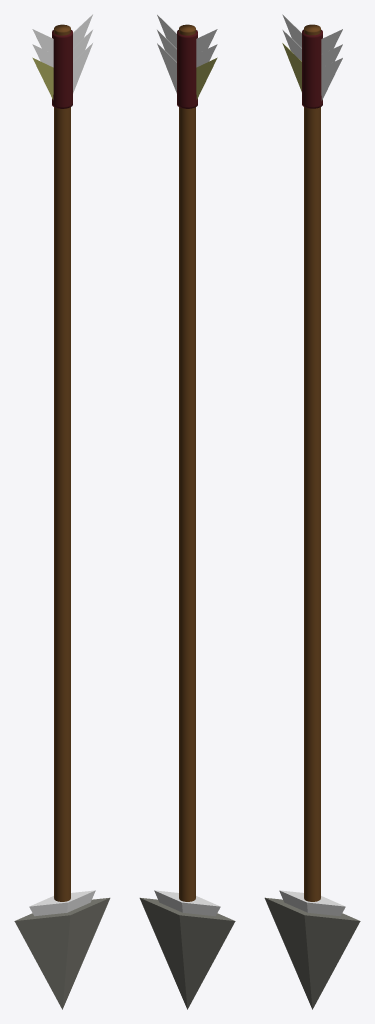
File: Arrow.fbx
The picture shows the model from 3 angles, left to right: view 1: azimuth 30°, elevation 25°; view 2: azimuth 150°, elevation 25°; view 3: azimuth 330°, elevation 25°; orthographic projection.
Parts seen in each view (by area): view 1: Arrow_2, Arrow, Arrow_3, Arrow_1, Arrow_4, Arrow_5, Arrow_8, Arrow_9; view 2: Arrow_2, Arrow, Arrow_3, Arrow_1, Arrow_4, Arrow_5, Arrow_8, Arrow_9; view 3: Arrow_2, Arrow, Arrow_3, Arrow_1, Arrow_5, Arrow_4, Arrow_9, Arrow_7.
Boxes of the visible parts, x1,y1,x2,y2 form: Arrow_2: (54, 24, 70, 901); Arrow: (14, 897, 110, 1009); Arrow_3: (52, 30, 72, 108); Arrow_1: (29, 890, 95, 916); Arrow_4: (32, 57, 53, 99); Arrow_5: (73, 43, 92, 93); Arrow_8: (32, 29, 53, 53); Arrow_9: (73, 14, 92, 48); Arrow_2: (179, 24, 195, 901); Arrow: (139, 897, 235, 1009); Arrow_3: (177, 30, 197, 108); Arrow_1: (154, 890, 220, 916); Arrow_4: (196, 57, 217, 99); Arrow_5: (157, 43, 176, 93); Arrow_8: (196, 29, 217, 53); Arrow_9: (157, 14, 176, 48); Arrow_2: (304, 24, 320, 901); Arrow: (264, 897, 360, 1009); Arrow_3: (302, 29, 322, 108); Arrow_1: (279, 890, 345, 916); Arrow_5: (321, 58, 342, 100); Arrow_4: (282, 43, 301, 91); Arrow_9: (321, 29, 342, 54); Arrow_7: (321, 44, 342, 67).
Bounding box in the file's own units: 0.0667 × 0.0192 × 0.6555.
